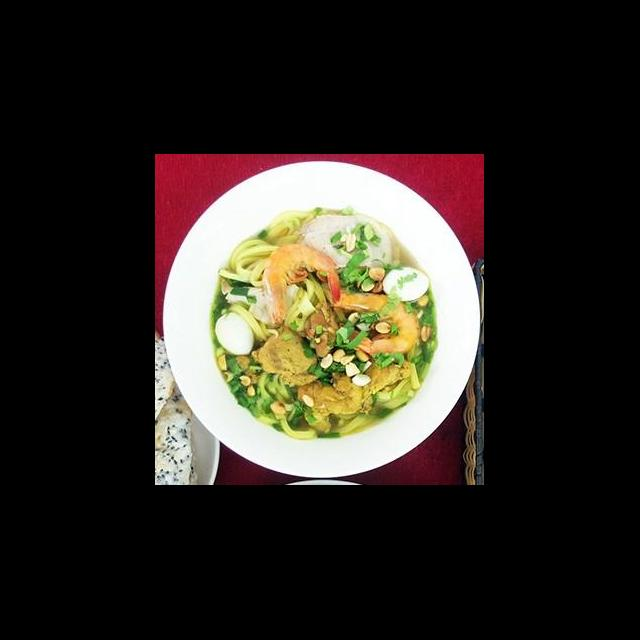mi: (215, 205, 328, 292), (226, 270, 332, 344), (330, 359, 422, 438), (244, 364, 318, 442)
thit heo: (294, 352, 414, 434), (248, 324, 326, 390)
tom: (258, 240, 344, 332), (328, 290, 422, 360)
trung: (380, 264, 430, 306), (214, 310, 256, 358)
